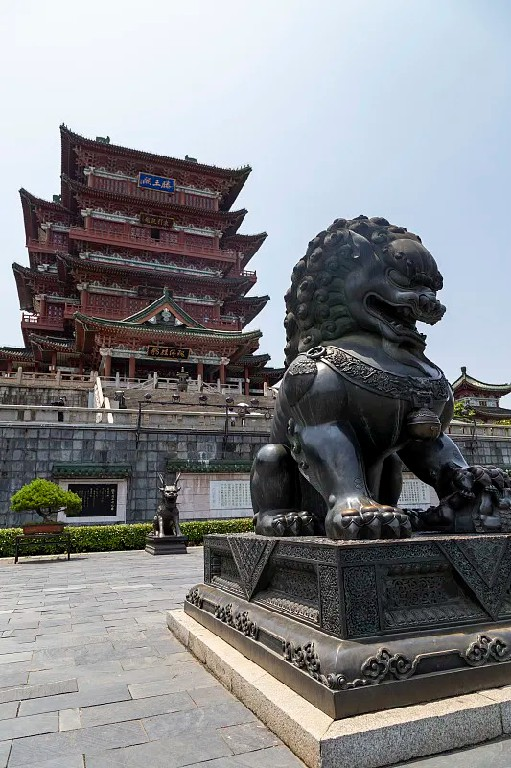Teng: (2, 123, 284, 391)
